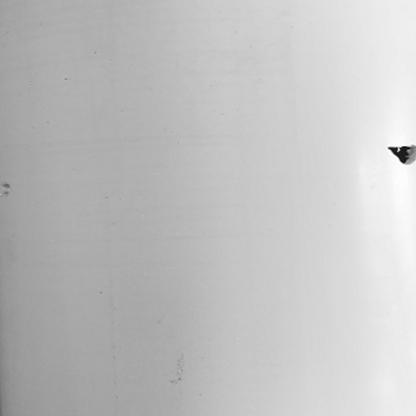kongdong: (386, 140, 416, 169)
